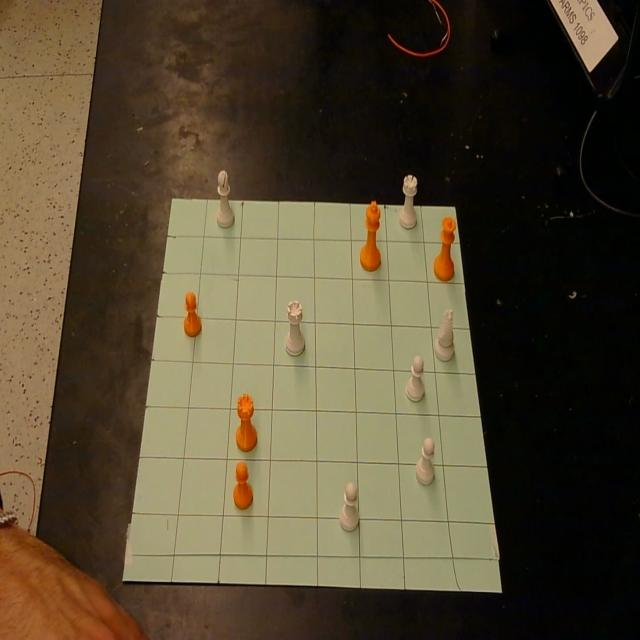orange_king: (360, 200, 381, 272)
orange_pawn: (233, 462, 253, 511), (184, 292, 201, 337)
orange_queen: (434, 217, 456, 282)
orange_rook: (235, 393, 258, 451)
white_bishop: (216, 169, 234, 227)
white_knight: (434, 308, 455, 362)
white_pawn: (340, 481, 359, 532), (416, 437, 436, 485), (406, 354, 424, 403)
white_rook: (286, 299, 306, 356), (400, 174, 418, 228)
